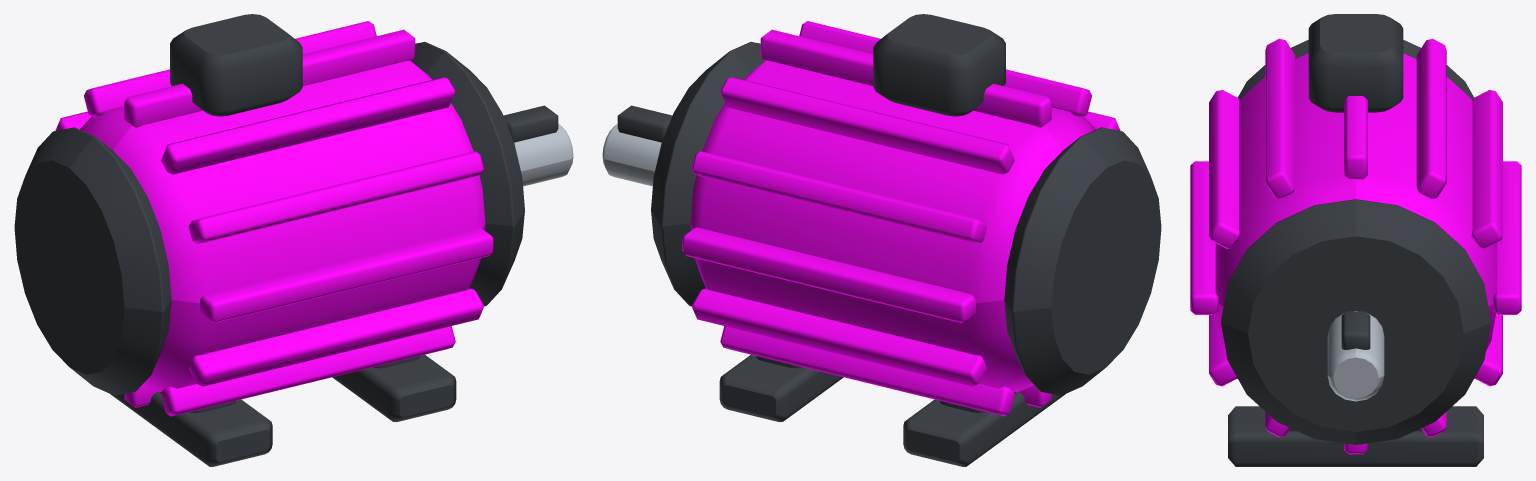
Rendered from objet_moteur.glb.
3 renders of one model, left to right at view 1: azimuth 30°, elevation 25°; view 2: azimuth 150°, elevation 25°; view 3: azimuth 270°, elevation 25°, orthographic.
Visible parts, largest first — view 1: moteur_teinte.004, moteur_teinte_sombre.004, moteur_gris_clair.004; view 2: moteur_teinte.004, moteur_teinte_sombre.004, moteur_gris_clair.004; view 3: moteur_teinte_sombre.004, moteur_teinte.004, moteur_gris_clair.004.
Part boxes in pixels (x1,y1,x2,y2): moteur_teinte.004: (55,21,493,416); moteur_teinte_sombre.004: (14,14,558,466); moteur_gris_clair.004: (514,124,573,186); moteur_teinte.004: (682,21,1120,416); moteur_teinte_sombre.004: (617,14,1161,466); moteur_gris_clair.004: (602,124,661,186); moteur_teinte_sombre.004: (1221,14,1490,466); moteur_teinte.004: (1190,38,1521,454); moteur_gris_clair.004: (1327,311,1384,401).
Bounding box in the file's own units: 0.295 × 0.21 × 0.175.
